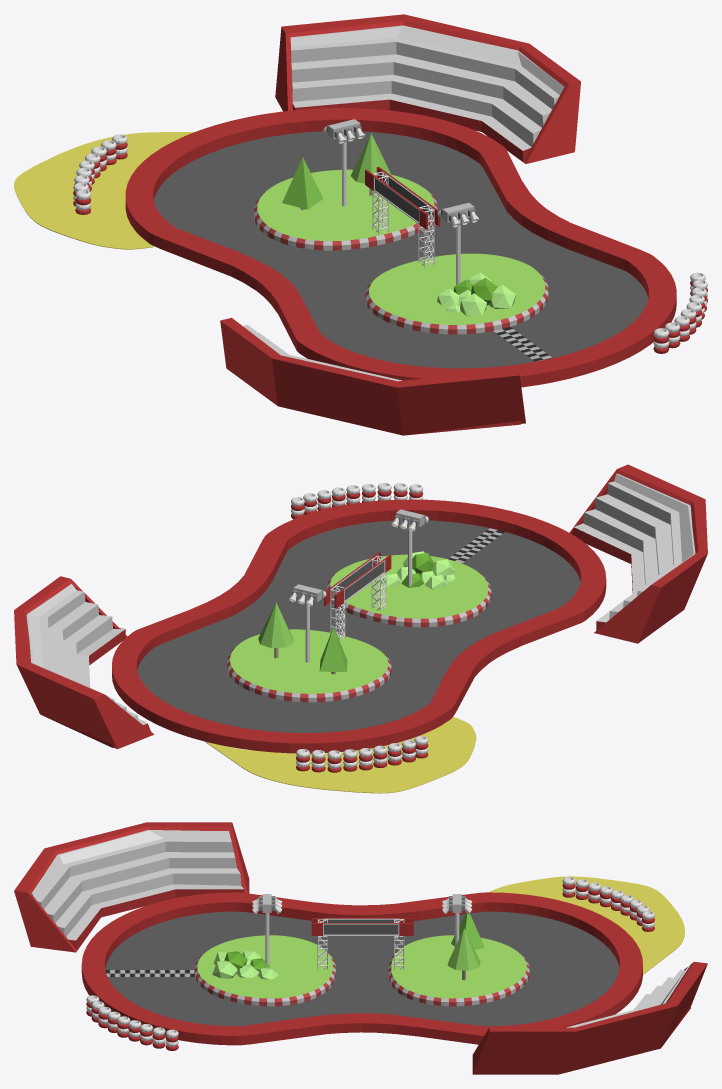
File: circuito.glb
The picture shows the model from 3 angles, top to bottom: view 1: azimuth 30°, elevation 25°; view 2: azimuth 150°, elevation 25°; view 3: azimuth 270°, elevation 25°; orthographic projection. The views are drawn at different scales.
Visible parts, largest first — view 1: Cap_2_6_Mat.2_0, Cap_2_7_Mat.1_0, Cap_2_2_Mat.4_0, Cap_Mat.3_0, Loft_2_Mat.1_0, Cap_2_Mat.13_0, Loft_Mat.1_0, Cube_1_Cube_0, Cap_2_3_Mat.1_0, Cap_2_5_Mat.1_0, Extrude_3_Mat.1_0, Cone_6_Mat_0 (+2 smaller); view 2: Cap_2_6_Mat.2_0, Cap_2_7_Mat.1_0, Cap_Mat.3_0, Cap_2_4_Mat.4_0, Cap_2_Mat.13_0, Cap_2_2_Mat.4_0, Loft_Mat.1_0, Loft_2_Mat.1_0, Cube_1_Cube_0, Cap_2_5_Mat.1_0, Cap_2_3_Mat.1_0, Cone_7_Mat_0 (+4 smaller); view 3: Cap_2_6_Mat.2_0, Cap_2_7_Mat.1_0, Cap_2_4_Mat.4_0, Cap_Mat.3_0, Loft_Mat.1_0, Cap_2_Mat.13_0, Cube_1_Cube_0, Loft_2_Mat.1_0, Cap_2_5_Mat.1_0, Cap_2_3_Mat.1_0, Extrude_3_2_Mat.1_0, Cap_2_2_Mat.4_0 (+4 smaller).
Boxes of the visible parts, x1,y1,x2,y2 form: Cap_2_6_Mat.2_0: (154,131,648,368); Cap_2_7_Mat.1_0: (125,108,676,387); Cap_2_2_Mat.4_0: (290,25,564,150); Cap_Mat.3_0: (257,169,545,324); Loft_2_Mat.1_0: (220,321,525,435); Cap_2_Mat.13_0: (14,132,194,248); Loft_Mat.1_0: (275,20,580,163); Cube_1_Cube_0: (254,191,552,361); Cap_2_3_Mat.1_0: (282,14,580,84); Cap_2_5_Mat.1_0: (220,317,519,387); Extrude_3_Mat.1_0: (292,99,530,161); Cone_6_Mat_0: (282,157,323,209); Cap_2_6_Mat.2_0: (137,520,580,732); Cap_2_7_Mat.1_0: (112,499,606,753); Cap_Mat.3_0: (230,554,488,693); Cap_2_4_Mat.4_0: (574,473,695,622); Cap_2_Mat.13_0: (206,717,476,792); Cap_2_2_Mat.4_0: (26,584,147,724); Loft_Mat.1_0: (16,579,154,749); Loft_2_Mat.1_0: (569,469,707,643); Cube_1_Cube_0: (227,528,504,702); Cap_2_5_Mat.1_0: (617,464,707,587); Cap_2_3_Mat.1_0: (14,576,104,698); Cone_7_Mat_0: (258,602,293,648); Cap_2_6_Mat.2_0: (105,911,619,1026); Cap_2_7_Mat.1_0: (81,892,642,1045); Cap_2_4_Mat.4_0: (31,830,243,940); Cap_Mat.3_0: (197,935,526,998); Loft_Mat.1_0: (472,962,707,1074); Cap_2_Mat.13_0: (489,876,684,974); Cube_1_Cube_0: (105,951,529,1006); Loft_2_Mat.1_0: (14,823,249,952); Cap_2_5_Mat.1_0: (14,822,232,892); Cap_2_3_Mat.1_0: (489,961,707,1031); Extrude_3_2_Mat.1_0: (68,884,244,950); Cap_2_2_Mat.4_0: (478,965,690,1045).
Bounding box in the file's own units: 7.29 × 1.33 × 10.21.
18 materials, 1 textured.
